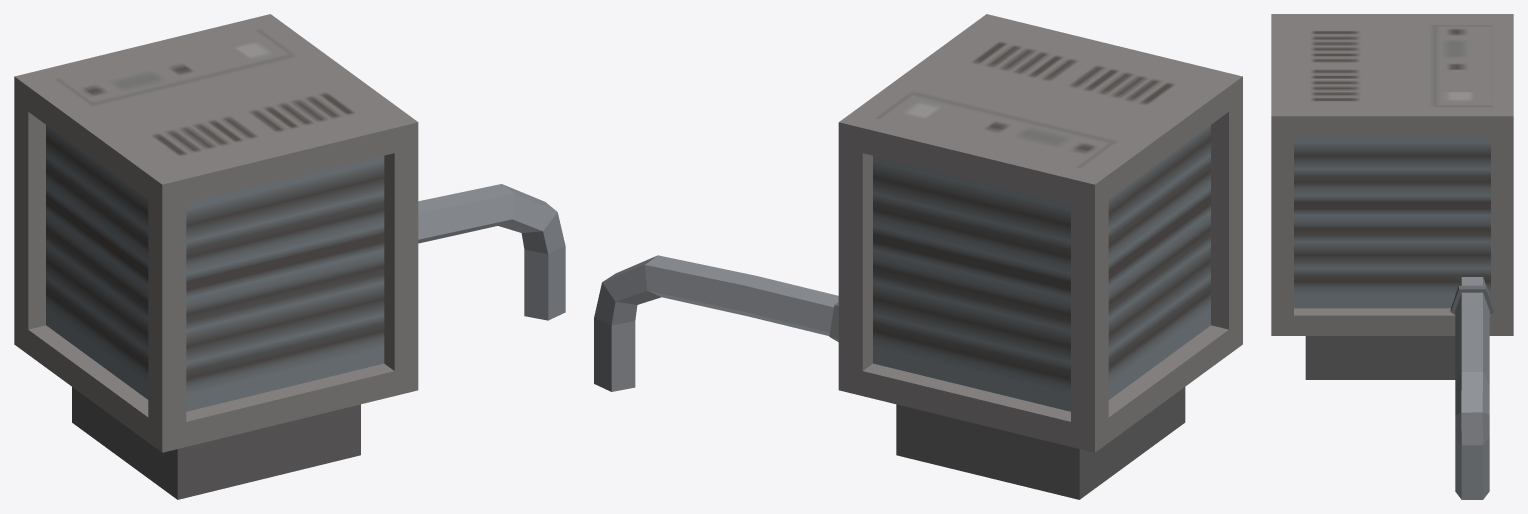
Rendered from SM_Prop_Aircon_Roof_01.fbx.
The picture shows the model from 3 angles, left to right: view 1: azimuth 30°, elevation 25°; view 2: azimuth 150°, elevation 25°; view 3: azimuth 270°, elevation 25°; orthographic projection. The views are drawn at different scales.
Visible parts, largest first — view 1: SM_Prop_Aircon_Roof_01; view 2: SM_Prop_Aircon_Roof_01; view 3: SM_Prop_Aircon_Roof_01.
Part boxes in pixels (<box>): SM_Prop_Aircon_Roof_01: <box>14,14,565,499</box>; SM_Prop_Aircon_Roof_01: <box>594,14,1242,499</box>; SM_Prop_Aircon_Roof_01: <box>1271,14,1513,499</box>.
Bounding box in the file's own units: 94.8 × 59.21 × 46.75.
1 material, 1 textured.
